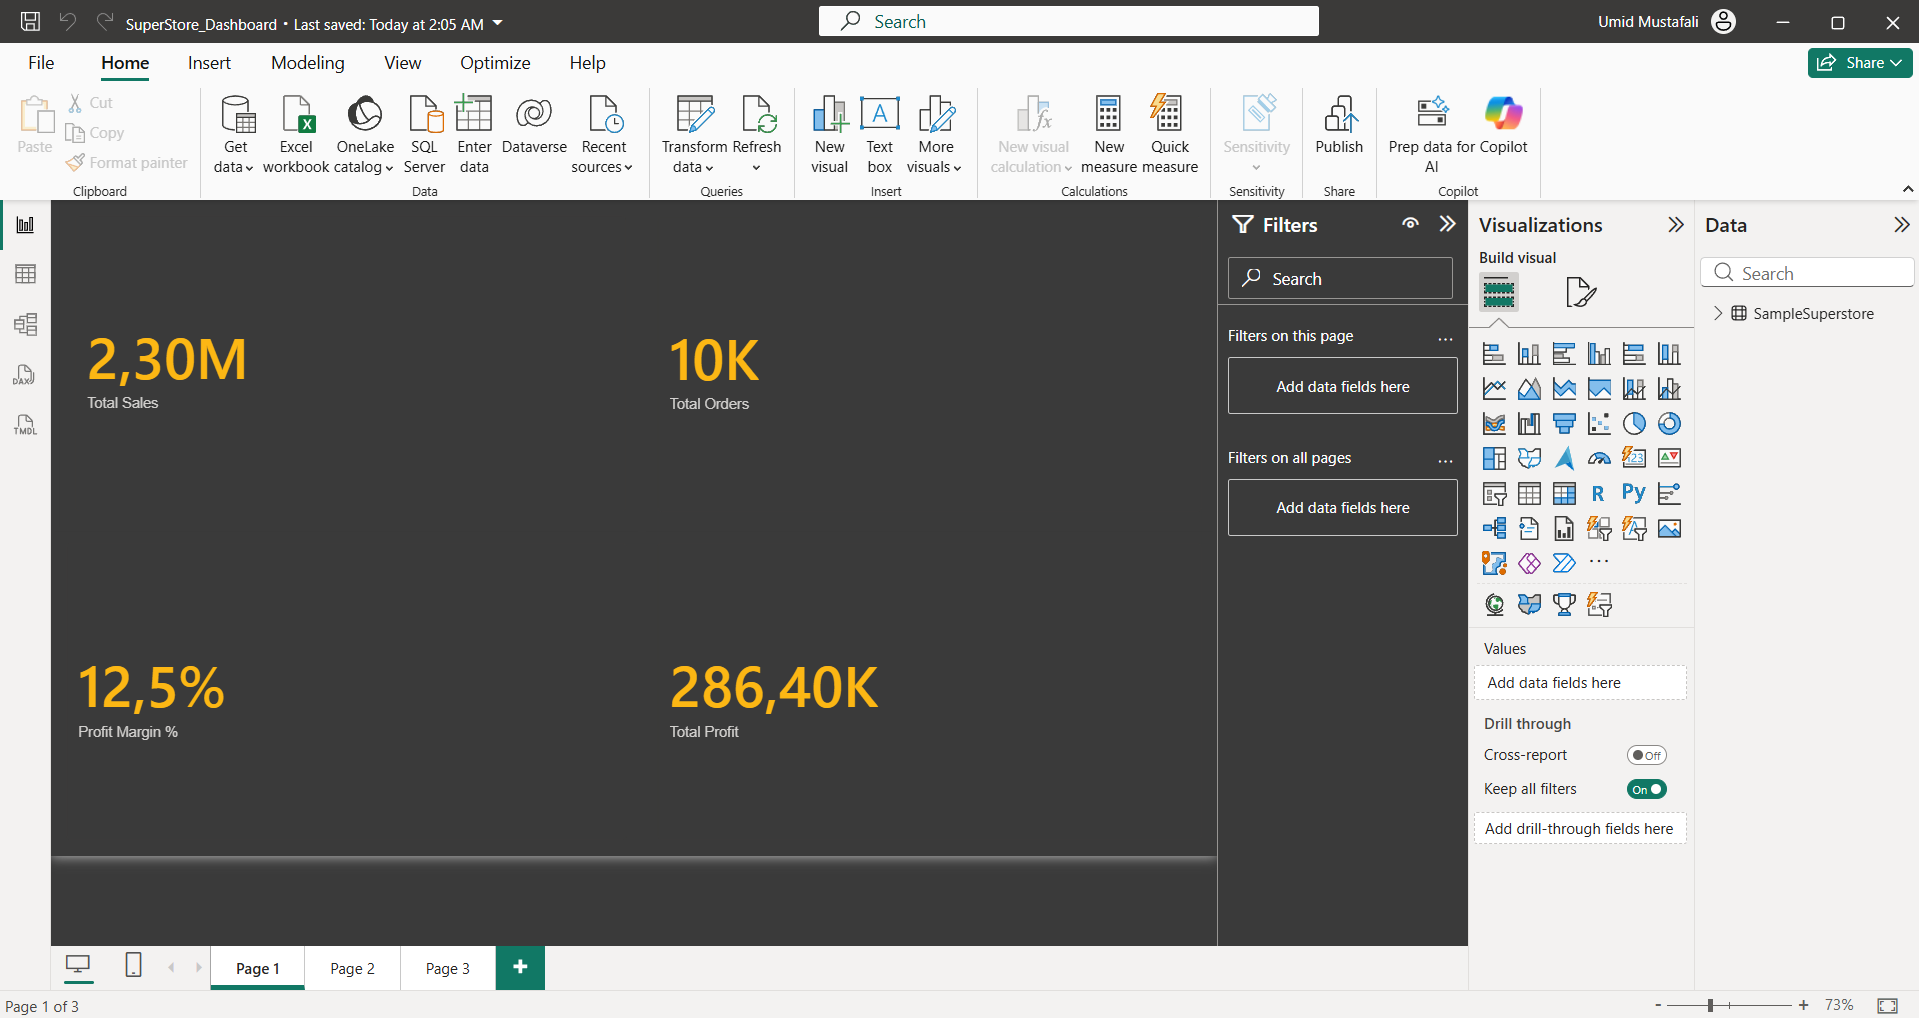

What the dashboard file says about the page in this screenshot:
{"tool":"powerbi","page":{"name":"Page 1","canvas":[1280,720],"ordinal":0},"visuals":[{"type":"cardVisual","fields":{"Data":["SampleSuperstore.Total Sales"]},"box":[9.6,0,639.5,359.5],"z":0},{"type":"cardVisual","fields":{"Data":["SampleSuperstore.Total Profit"]},"box":[649.1,359.5,631.2,360.9],"z":1},{"type":"cardVisual","fields":{"Data":["SampleSuperstore.Profit Margin %"]},"box":[0,359.5,649.1,360.9],"z":2},{"type":"cardVisual","fields":{"Data":["SampleSuperstore.Total Orders"]},"box":[649.1,1.4,631.2,358.1],"z":3}]}

Visuals, with their boxes on the page's 1280x720 design canvas (x1, y1, x2, y2). These are canvas units, not pixel positions in the 1919x1018 screenshot, which may show the page scaled, cropped or inside an application window:
cardVisual - SampleSuperstore.Total Sales: [10, 0, 649, 360]
cardVisual - SampleSuperstore.Total Profit: [649, 360, 1280, 720]
cardVisual - SampleSuperstore.Profit Margin %: [0, 360, 649, 720]
cardVisual - SampleSuperstore.Total Orders: [649, 1, 1280, 360]
